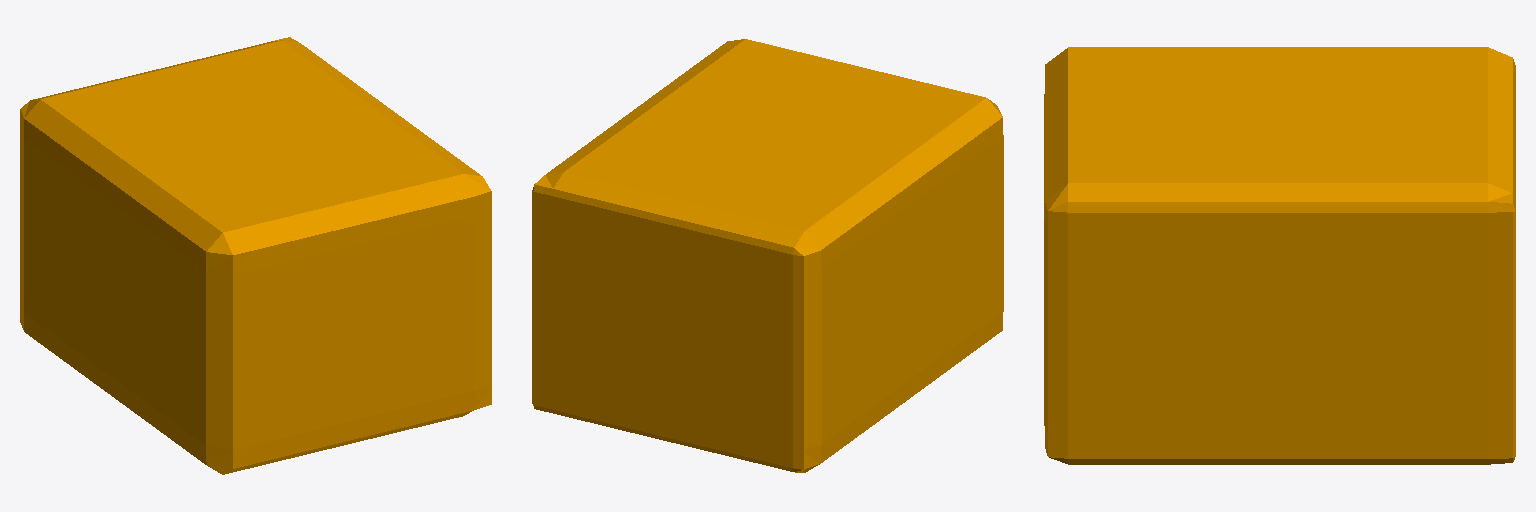
URDF robot description (cylinder_box_119):
<?xml version="1.0" encoding="utf-8"?>  <robot name="cylinder_box_119">   <link name="cylinder_box_119">     <visual>       <geometry>         <mesh filename="../meshes/box/box_119.stl" scale="1 1 1"/>       </geometry>     </visual>     <collision>       <geometry>         <mesh filename="../meshes/box/box_119.stl" scale="1 1 1"/>       </geometry>     </collision>     <inertial>        <origin         xyz="0 0 0"         rpy="0 0 0" />       <mass value="0.4412927101329345"/>       <origin rpy="0 0 0" xyz="0 0 0"/>       <inertia ixx="0.00046974942632528653" ixy="9.560187000333563e-08" ixz="-5.089688730588569e-08" iyy="0.0003451091147035595" iyz="-5.002862844749568e-08" izz="0.0005344715104363965"/>     </inertial>   </link>  </robot>

--- Facts derived from the render (not from the file) ---
The picture shows the robot from 3 angles, left to right: view 1: azimuth 30°, elevation 25°; view 2: azimuth 150°, elevation 25°; view 3: azimuth 270°, elevation 25°; orthographic projection.
Robot: cylinder_box_119 — 1 links, 0 joints (none); root link cylinder_box_119; default pose: all joints at 0.
Links seen in each view (by area): view 1: cylinder_box_119; view 2: cylinder_box_119; view 3: cylinder_box_119.
Link boxes in pixels (<box>): cylinder_box_119: <box>20,37,491,474</box>; cylinder_box_119: <box>532,39,1003,472</box>; cylinder_box_119: <box>1044,47,1515,464</box>.
Size in the robot's own frame: 0.0753 by 0.0954 by 0.0624 metres.
1 mesh visuals loaded from 1 distinct referenced files (1 binary STL).